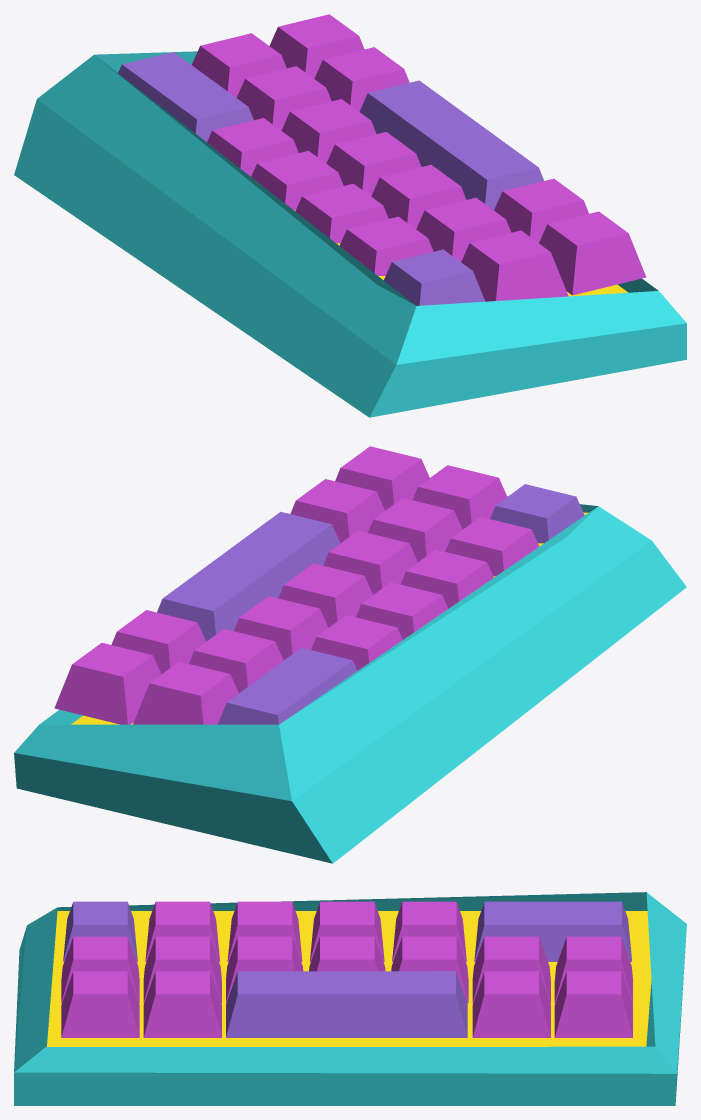
File: Keyboard.glb
3 renders of one model, top to bottom at view 1: azimuth 30°, elevation 25°; view 2: azimuth 150°, elevation 25°; view 3: azimuth 270°, elevation 25°, orthographic. The views are drawn at different scales.
Parts seen in each view (by area): view 1: Plane, Plane.001; view 2: Plane, Plane.001; view 3: Plane.001, Plane.
Boxes of the visible parts, x1,y1,x2,y2 form: Plane: (14,51,686,417); Plane.001: (118,14,646,305); Plane: (14,496,686,863); Plane.001: (54,446,584,724); Plane.001: (61,901,632,1037); Plane: (14,892,686,1105).
Bounding box in the file's own units: 4.15 × 1.42 × 8.35.
